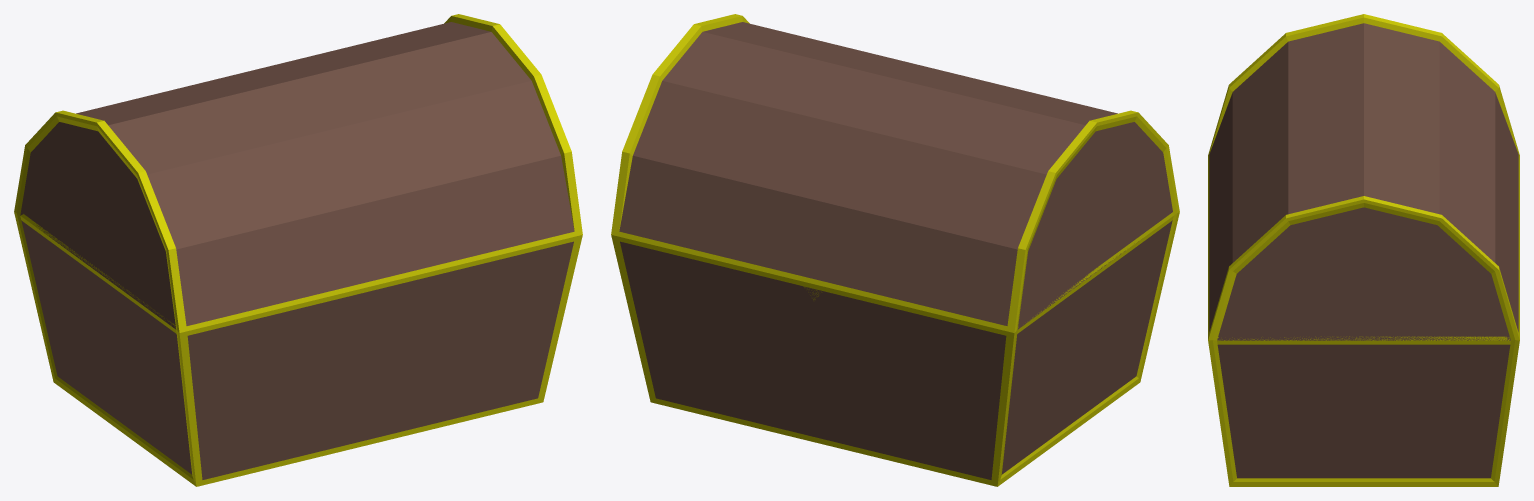
Rendered from chest.fbx.
3 views of the same model, side by side, from view 1: azimuth 30°, elevation 25°; view 2: azimuth 150°, elevation 25°; view 3: azimuth 270°, elevation 25° (orthographic). The views are drawn at different scales.
Parts seen in each view (by area): view 1: Chest; view 2: Chest; view 3: Chest.
Part boxes in pixels (x1=…): Chest: x1=14, y1=14, x2=582, y2=486; Chest: x1=611, y1=14, x2=1179, y2=486; Chest: x1=1208, y1=14, x2=1519, y2=486.
Bounding box in the file's own units: 2.9 × 2.19 × 2.06.
